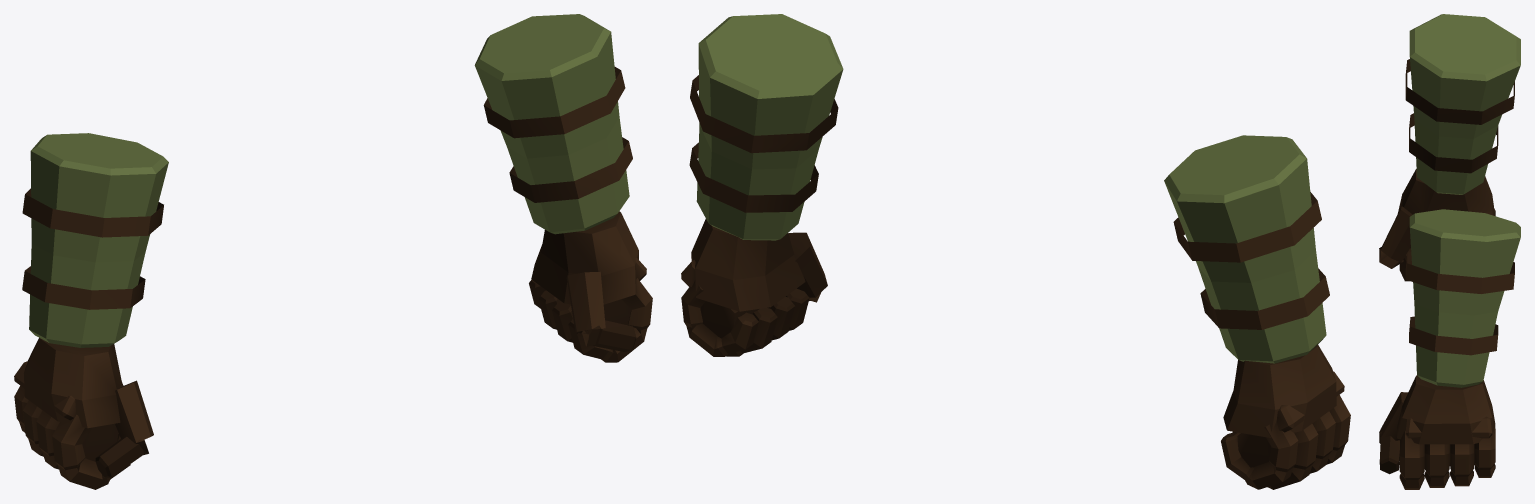
File: g_bracers_f.glb
3 views of the same model, side by side, from view 1: azimuth 30°, elevation 25°; view 2: azimuth 150°, elevation 25°; view 3: azimuth 270°, elevation 25° (orthographic). The views are drawn at different scales.
Visible parts, largest first — view 1: ArmR_Hand, ArmL_Hand; view 2: ArmL_Hand, ArmR_Hand; view 3: ArmL_Hand, ArmR_Hand.
Boxes of the visible parts, bbox=[...] form: ArmR_Hand: bbox=[14, 133, 168, 489]; ArmL_Hand: bbox=[474, 14, 652, 362]; ArmL_Hand: bbox=[681, 14, 843, 356]; ArmR_Hand: bbox=[1164, 135, 1350, 489]; ArmL_Hand: bbox=[1379, 209, 1520, 489]; ArmR_Hand: bbox=[1379, 14, 1520, 281].
Bounding box in the file's own units: 0.5764 × 0.2924 × 0.1438.
